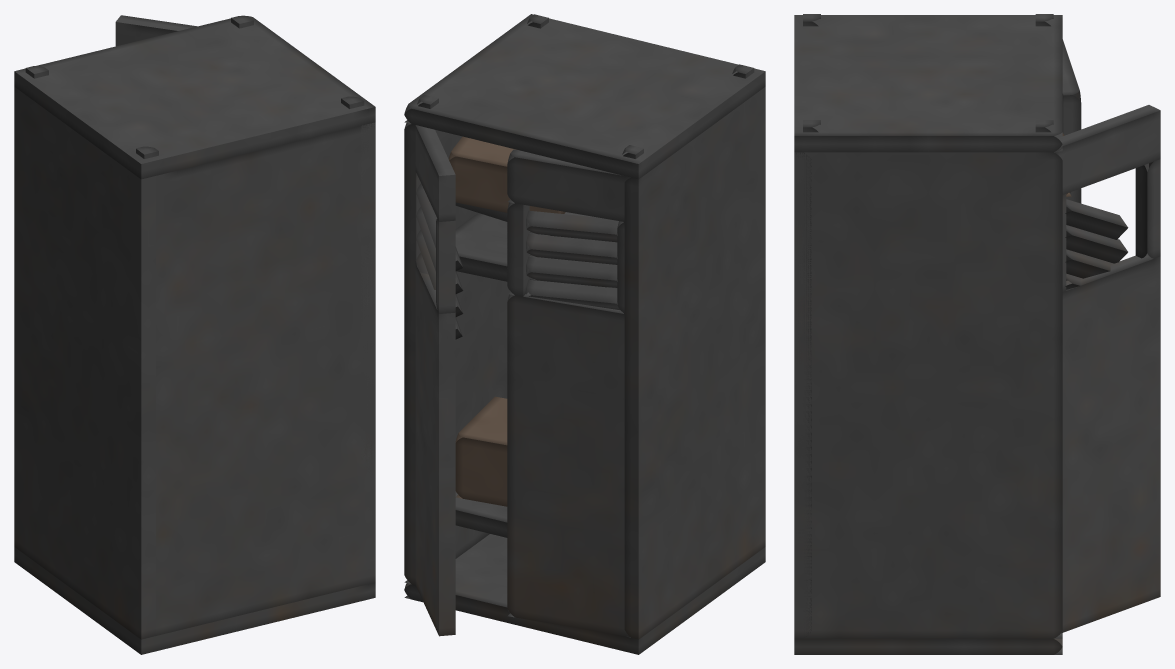
Rendered from weapon_cabinet.obj.
3 renders of one model, left to right at view 1: azimuth 30°, elevation 25°; view 2: azimuth 150°, elevation 25°; view 3: azimuth 270°, elevation 25°, orthographic. The views are drawn at different scales.
Parts seen in each view (by area): view 1: nz, nx, nB, nA, ny, nD; view 2: nx, nN, nB, ny, nM, nA, nC, ob, oc, nT, nD, nH (+10 smaller); view 3: ny, nB, nM, nD, nz, nA, nO, nE, nG, nC, nI.
Part boxes in pixels (bbox=[...]): nz: bbox=[156, 122, 375, 635]; nx: bbox=[14, 87, 155, 639]; nB: bbox=[14, 15, 375, 179]; nA: bbox=[14, 547, 375, 654]; ny: bbox=[361, 122, 375, 583]; nD: bbox=[115, 15, 197, 46]; nx: bbox=[624, 87, 765, 639]; nN: bbox=[507, 292, 629, 636]; nB: bbox=[404, 14, 765, 179]; ny: bbox=[404, 123, 509, 584]; nM: bbox=[415, 264, 455, 636]; nA: bbox=[404, 534, 765, 654]; nC: bbox=[507, 149, 630, 221]; ob: bbox=[455, 396, 507, 506]; oc: bbox=[448, 136, 565, 213]; nT: bbox=[455, 213, 616, 288]; nD: bbox=[415, 125, 455, 221]; nH: bbox=[526, 233, 617, 264]; ny: bbox=[794, 145, 1062, 638]; nB: bbox=[794, 15, 1062, 152]; nM: bbox=[1061, 254, 1160, 633]; nD: bbox=[1055, 105, 1160, 194]; nz: bbox=[794, 152, 811, 638]; nA: bbox=[794, 638, 1062, 654]; nO: bbox=[1135, 159, 1160, 259]; nE: bbox=[1065, 199, 1128, 239]; nG: bbox=[1065, 225, 1127, 263]; nC: bbox=[1062, 39, 1081, 135]; nI: bbox=[1065, 249, 1113, 278].
Bounding box in the file's own units: 1 × 2.02 × 1.28.
Materials: 1 (1 with a texture image).
